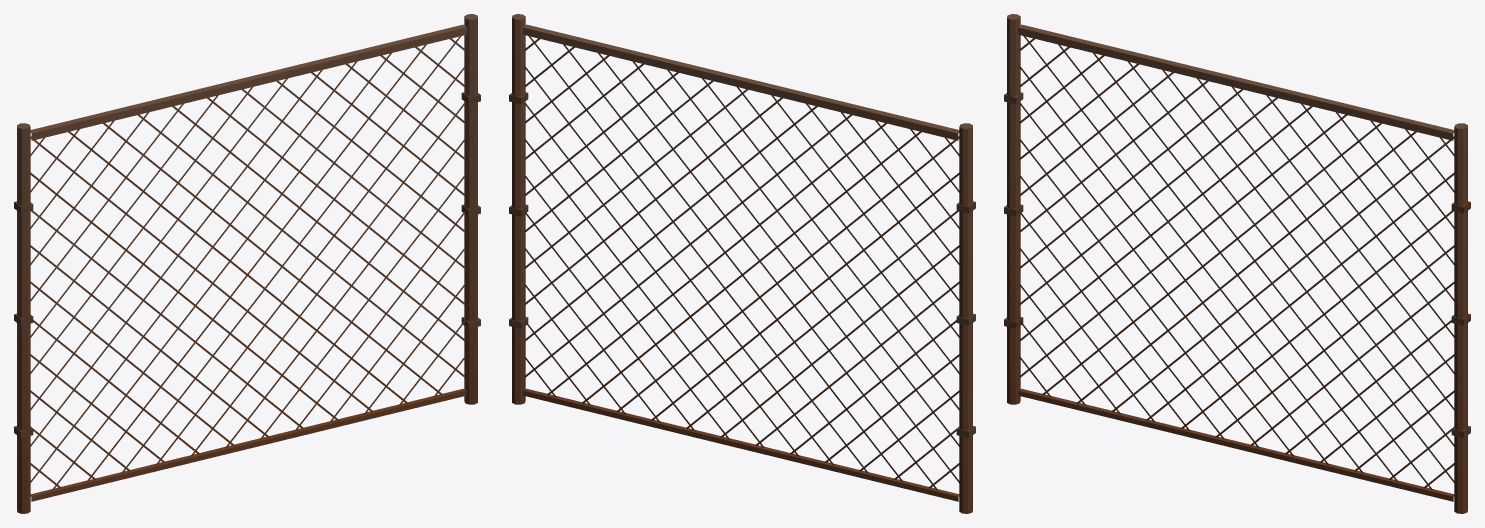
The model's file is fence.chainlink.rusty.glb.
3 views of the same model, side by side, from view 1: azimuth 30°, elevation 25°; view 2: azimuth 150°, elevation 25°; view 3: azimuth 330°, elevation 25° (orthographic).
Visible parts, largest first — view 1: fence_chainlink_rusty; view 2: fence_chainlink_rusty; view 3: fence_chainlink_rusty.
Boxes of the visible parts, x1,y1,x2,y2 form: fence_chainlink_rusty: (14,14,480,513); fence_chainlink_rusty: (509,14,975,513); fence_chainlink_rusty: (1004,14,1470,513).
Size of what is drawn, in the model's own units: 3 by 2.4 by 0.08.
